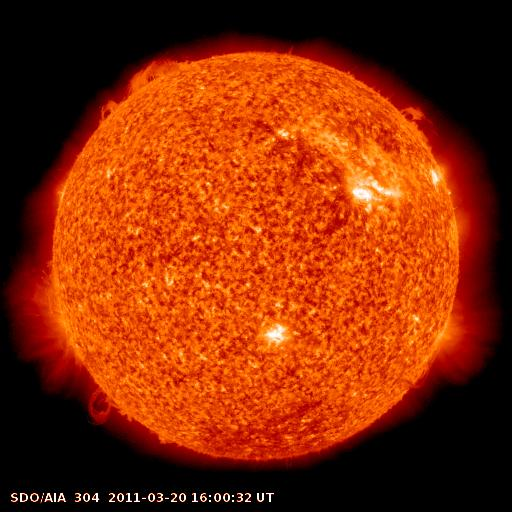prominence: (92, 46, 194, 132), (77, 382, 125, 430), (397, 94, 439, 146)
